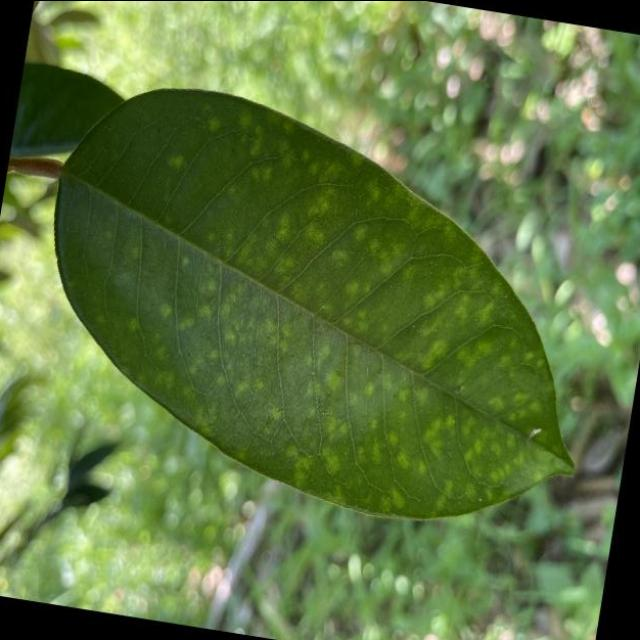Leaf Spot: (3, 58, 619, 557)
